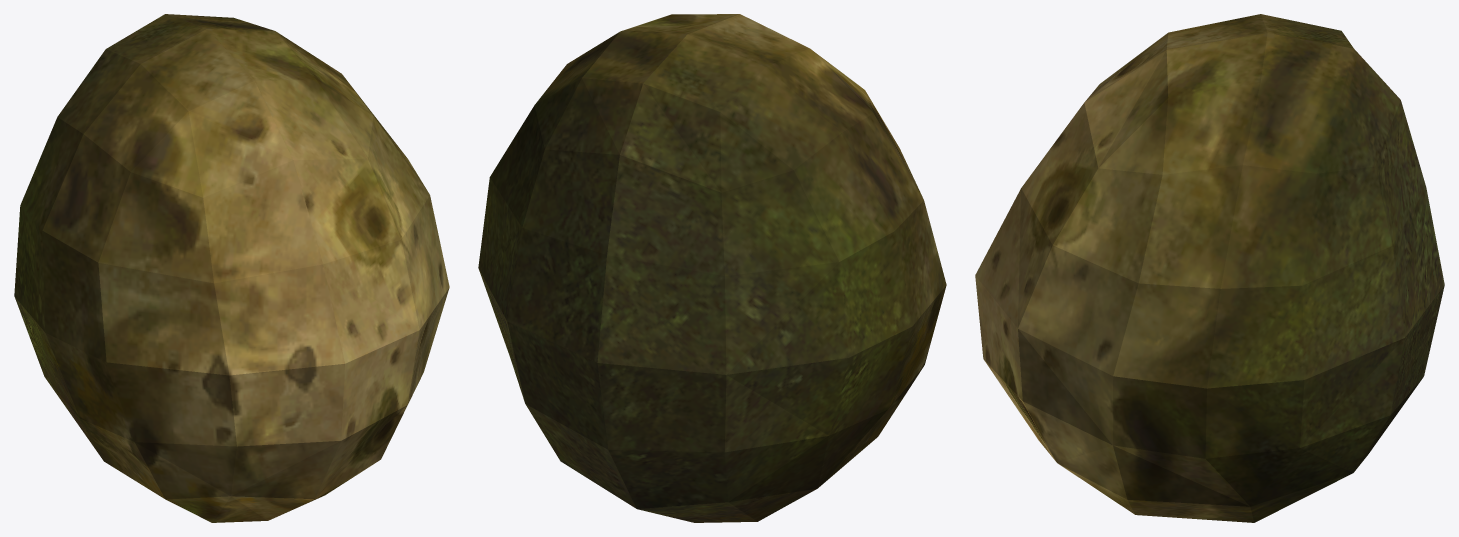
File: juqing_yewai_543_potato01.obj
3 views of the same model, side by side, from view 1: azimuth 30°, elevation 25°; view 2: azimuth 150°, elevation 25°; view 3: azimuth 270°, elevation 25° (orthographic). The views are drawn at different scales.
Parts seen in each view (by area): view 1: objjuqing_yewai_543_potato01; view 2: objjuqing_yewai_543_potato01; view 3: objjuqing_yewai_543_potato01.
Boxes of the visible parts, x1=… form: objjuqing_yewai_543_potato01: x1=14, y1=14, x2=449, y2=522; objjuqing_yewai_543_potato01: x1=478, y1=14, x2=946, y2=522; objjuqing_yewai_543_potato01: x1=975, y1=14, x2=1444, y2=522.
Bounding box in the file's own units: 282 × 329 × 294.
Materials: 1 (1 with a texture image).
